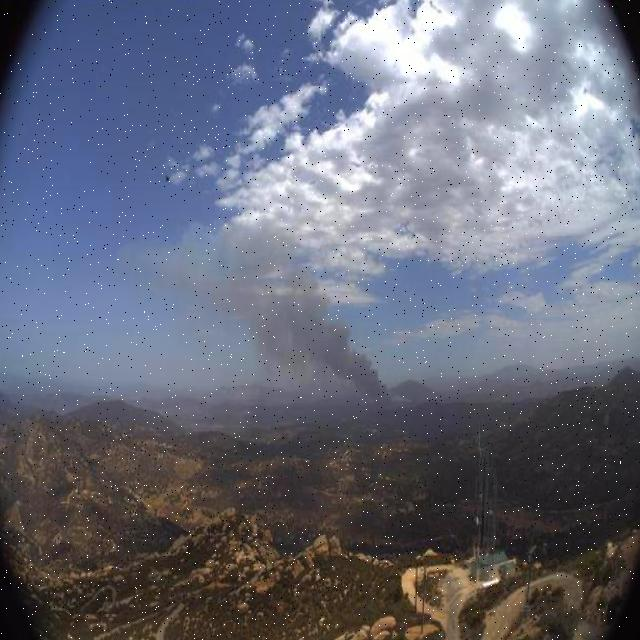smoke: (147, 214, 399, 420)
